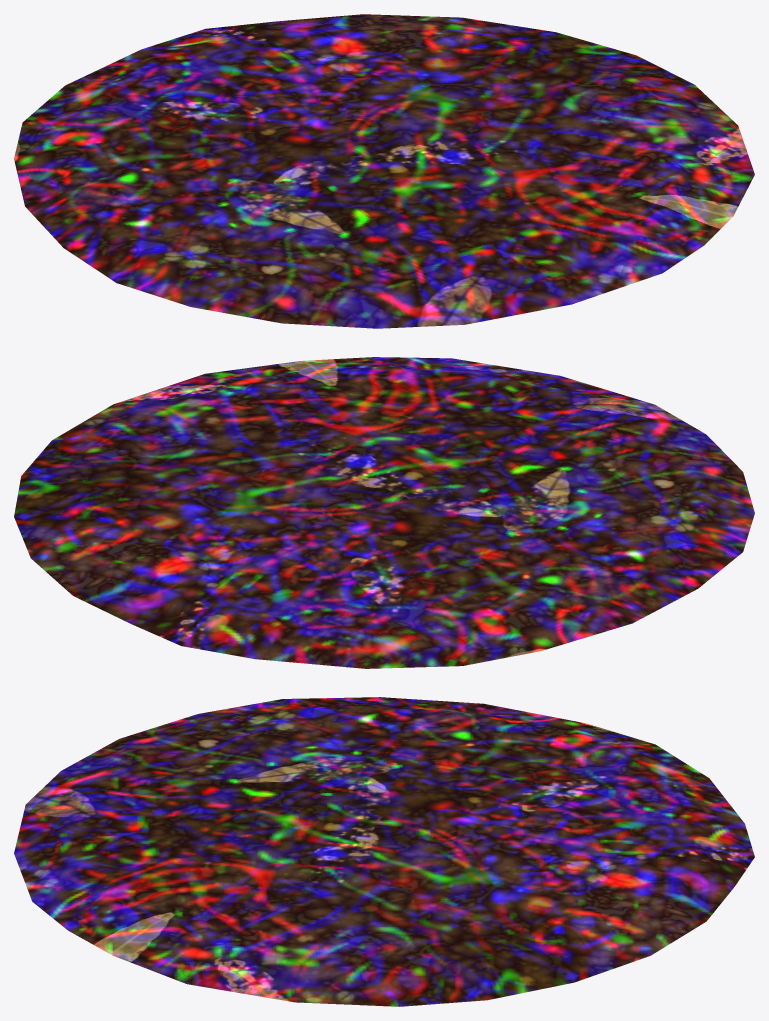
The model's file is flower_bed_small_circle_SM.fbx.
3 renders of one model, top to bottom at view 1: azimuth 30°, elevation 25°; view 2: azimuth 150°, elevation 25°; view 3: azimuth 270°, elevation 25°, orthographic.
Visible parts, largest first — view 1: flower_bed_small_circle_SM_LOD0; view 2: flower_bed_small_circle_SM_LOD0; view 3: flower_bed_small_circle_SM_LOD0.
Boxes of the visible parts, x1,y1,x2,y2 form: flower_bed_small_circle_SM_LOD0: (14, 14, 754, 328); flower_bed_small_circle_SM_LOD0: (14, 357, 754, 668); flower_bed_small_circle_SM_LOD0: (14, 697, 754, 1006).
Bounding box in the file's own units: 511 × 516 × 15.5.
Materials: 1 (1 with a texture image).
